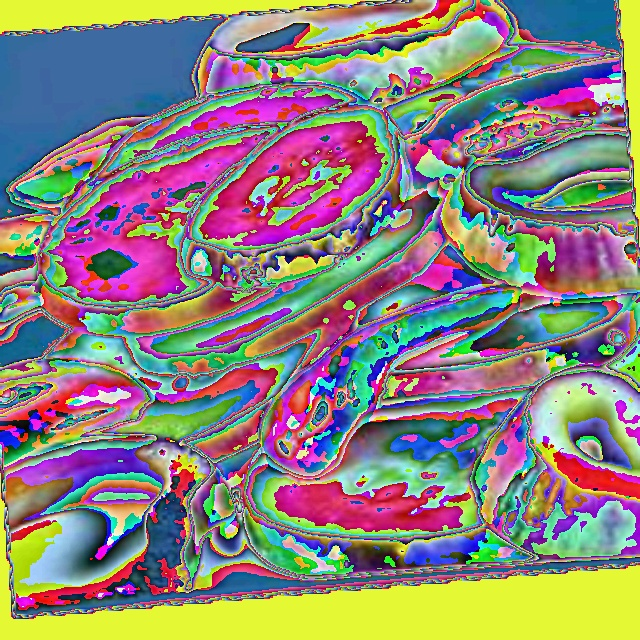background: (0, 0, 640, 593)
